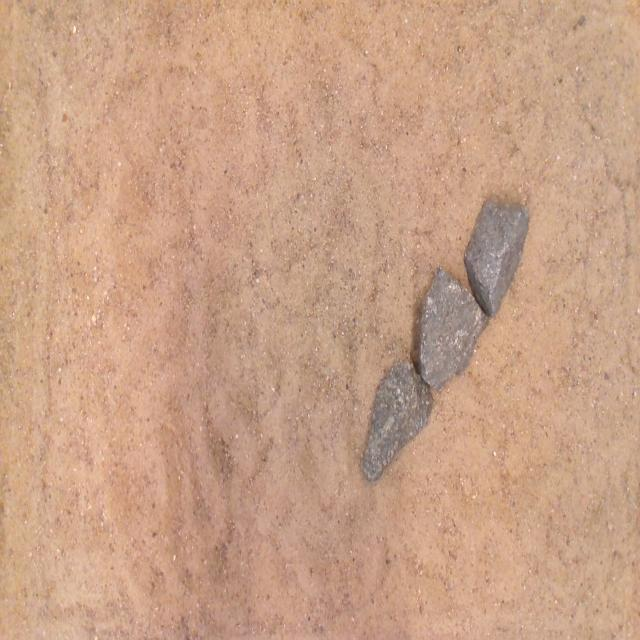rock: (363, 361, 433, 481), (418, 268, 487, 388), (464, 201, 529, 316)
